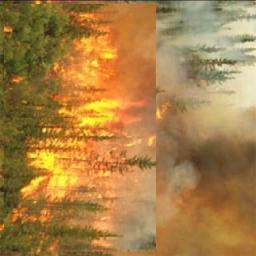Heavy smoke: (157, 4, 256, 256)
Large fire: (26, 1, 151, 256)
